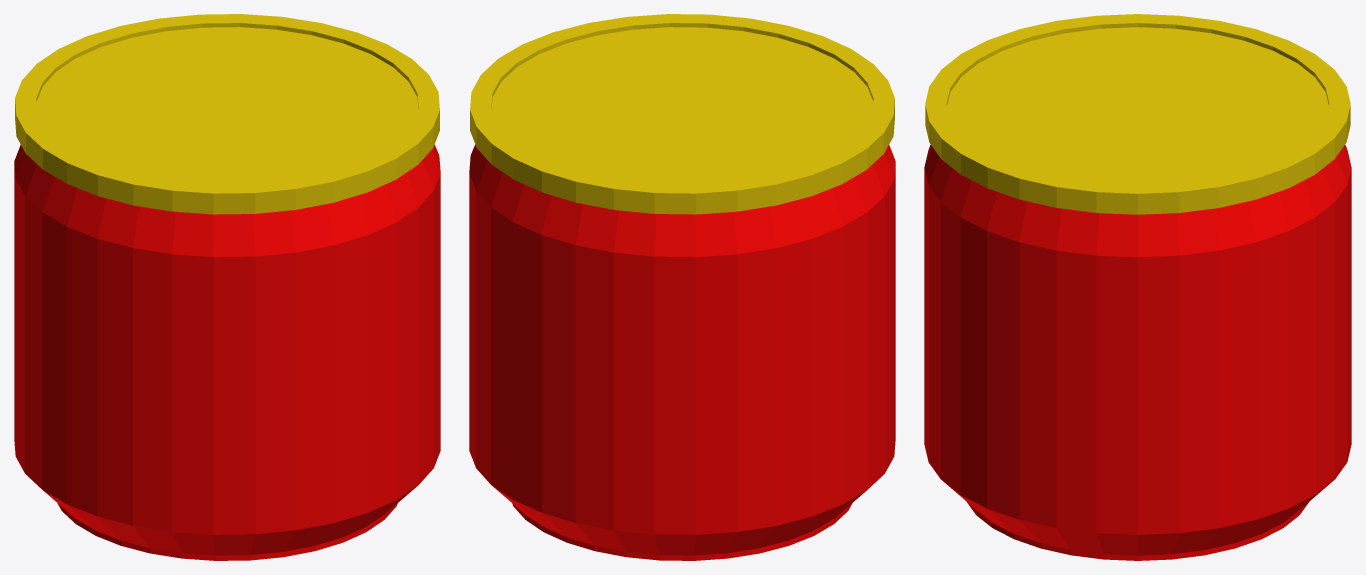
File: jar.fbx
3 views of the same model, side by side, from view 1: azimuth 30°, elevation 25°; view 2: azimuth 150°, elevation 25°; view 3: azimuth 270°, elevation 25° (orthographic).
Parts seen in each view (by area): view 1: bocal; view 2: bocal; view 3: bocal.
Boxes of the visible parts, <box> form: bocal: <box>14,14,440,560</box>; bocal: <box>469,14,895,560</box>; bocal: <box>924,14,1351,560</box>.
Size of the model in its own units: 45.56 by 45.09 by 45.56.
